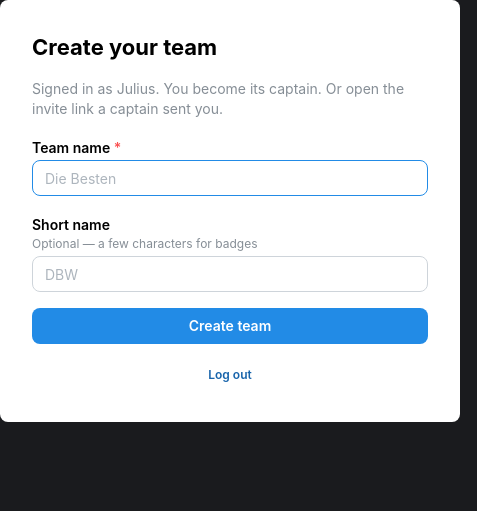
it: CreateTeamCard › the API’s own reason for a 422 is shown as written
Type "Admin" into the field with placeholder "Die Besten" at (230, 178), box [32, 160, 428, 196]
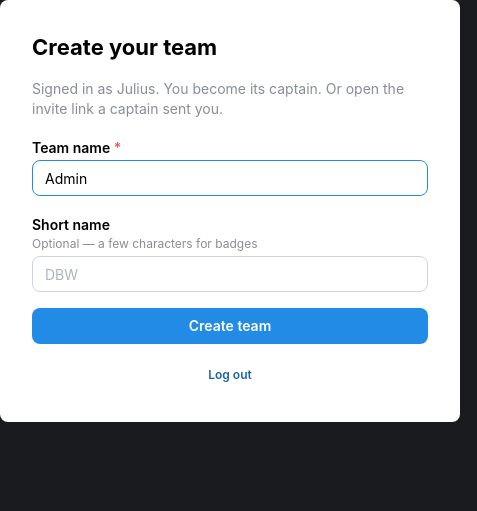
Click the button "Create team" at (230, 326), box [32, 308, 428, 344]
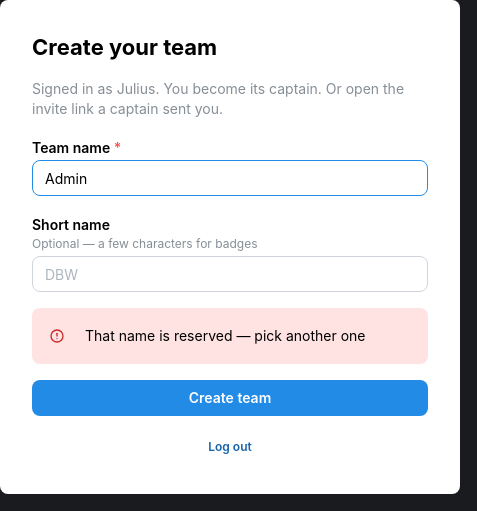
expect the text "That name is reserved — pick another one" is shown: met, box [85, 325, 411, 347]
